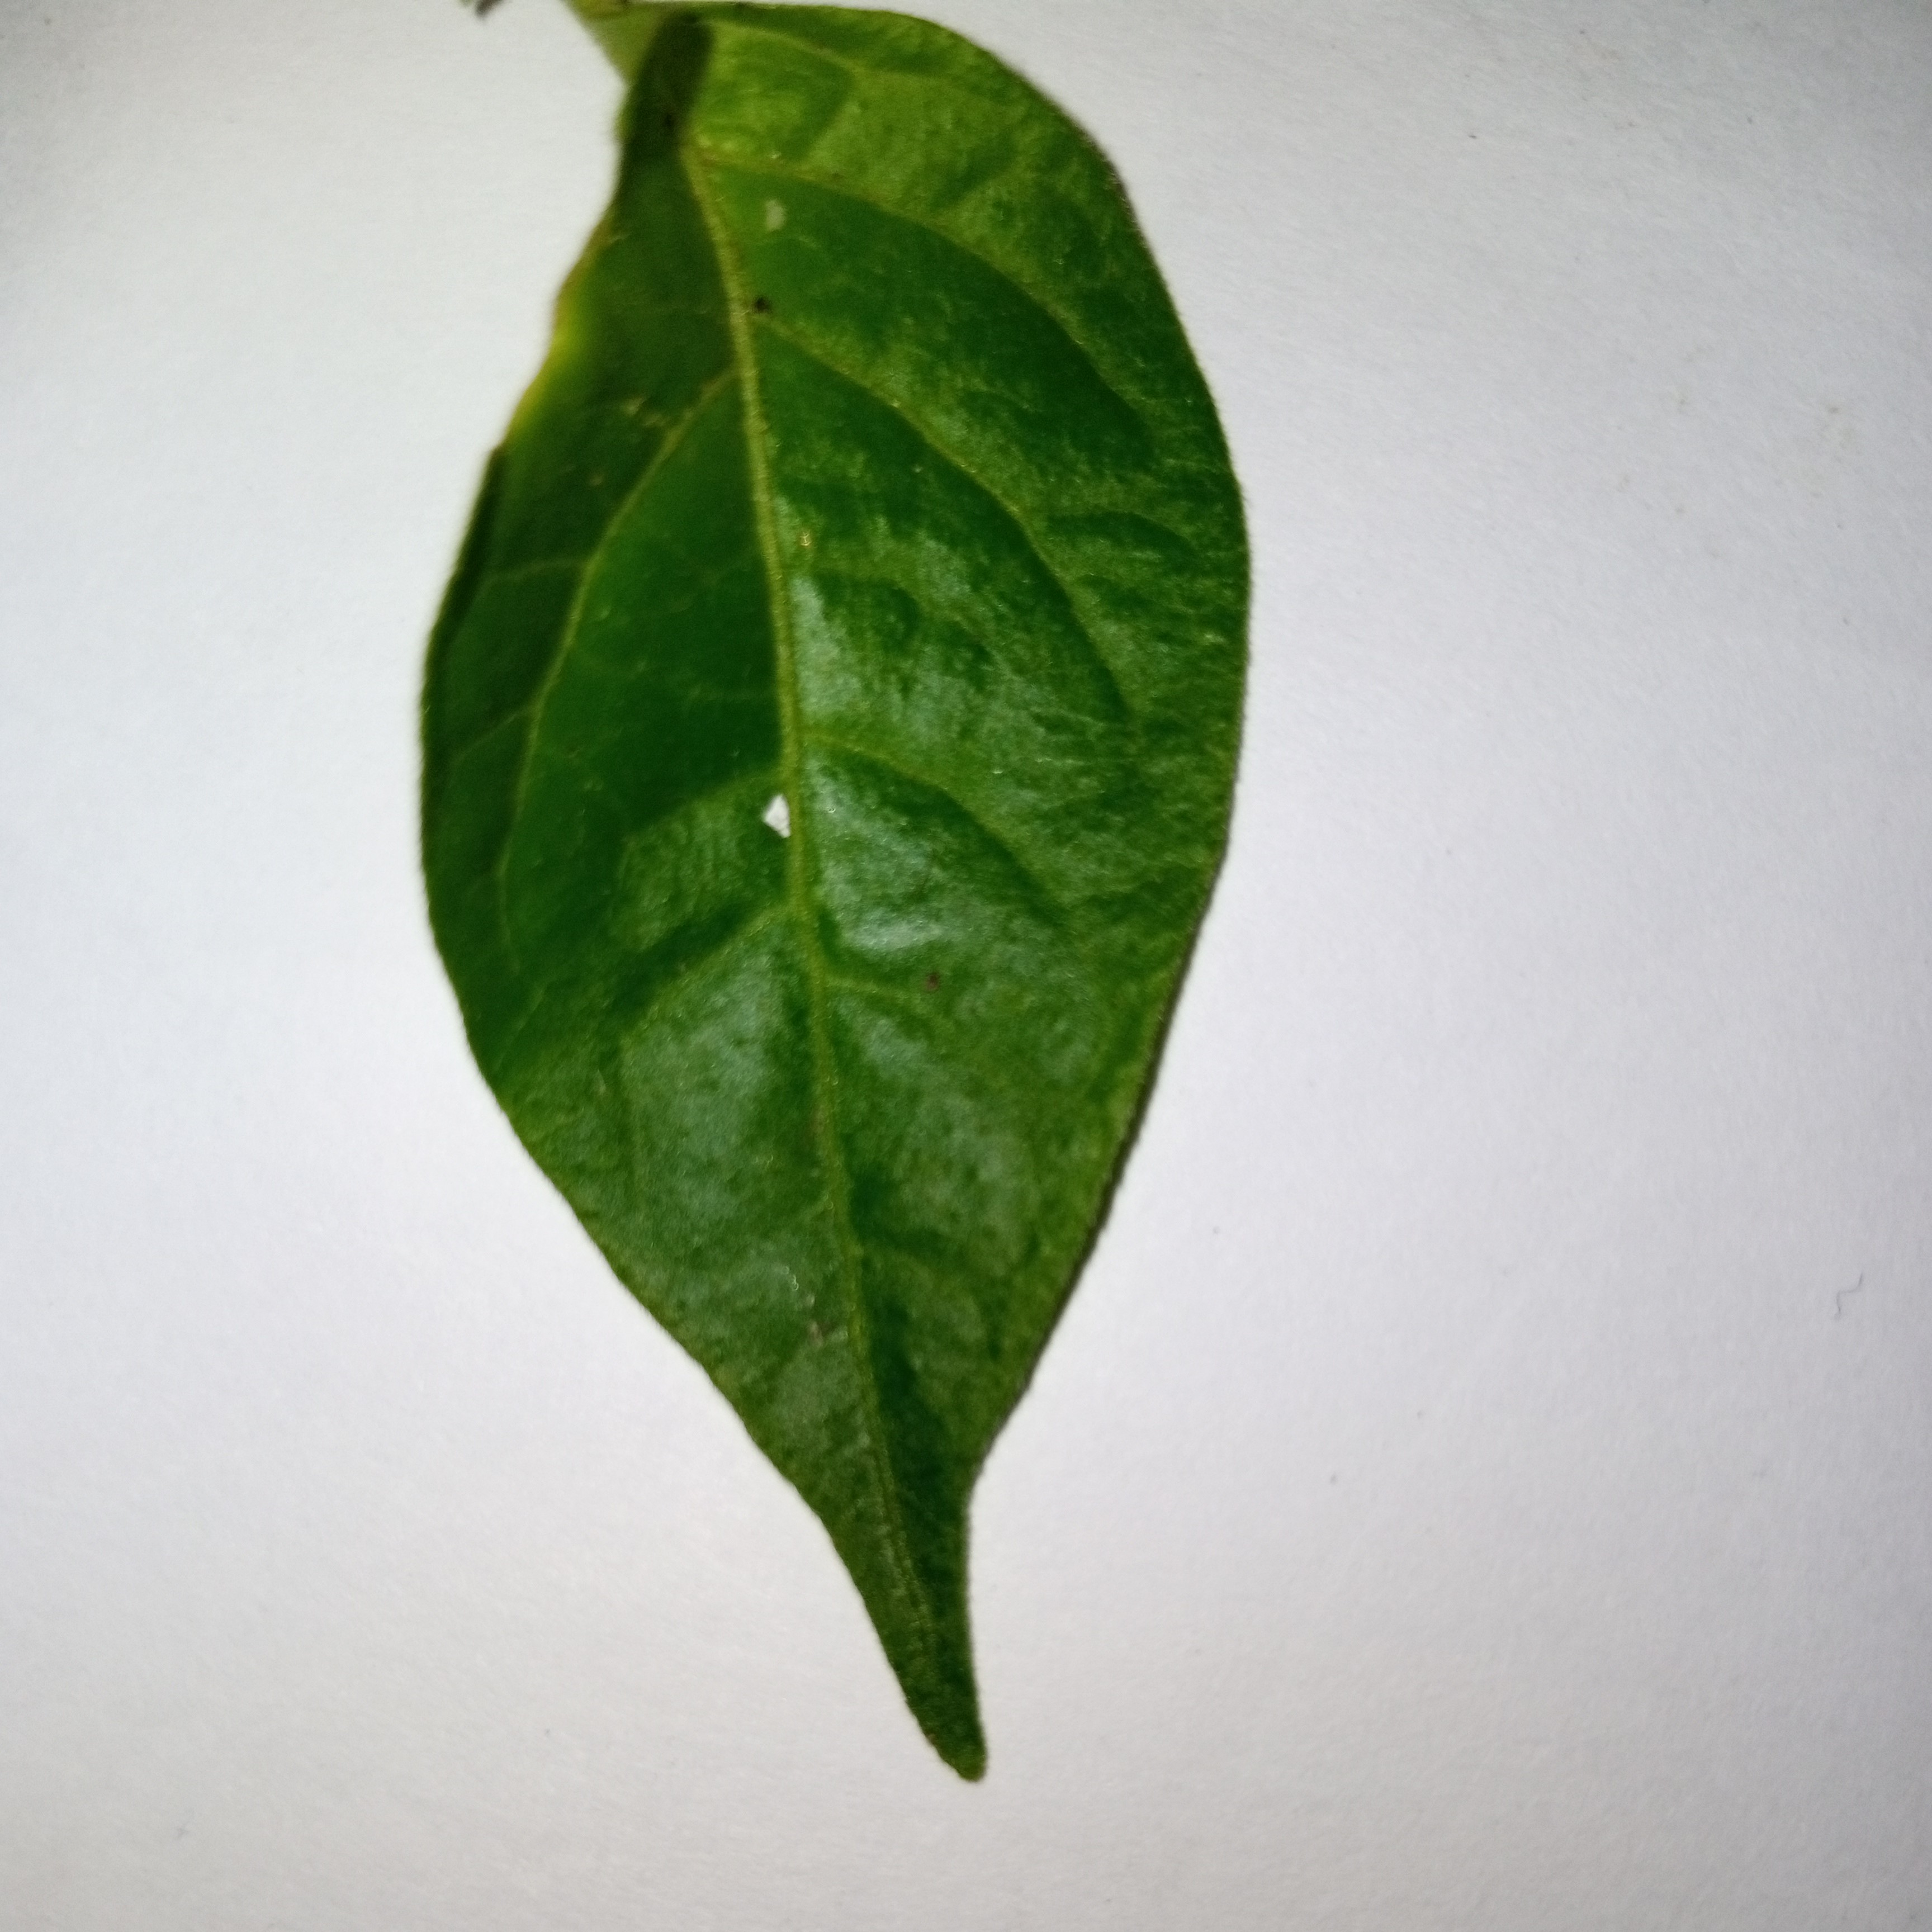Leaf: (331, 5, 1380, 1932)
